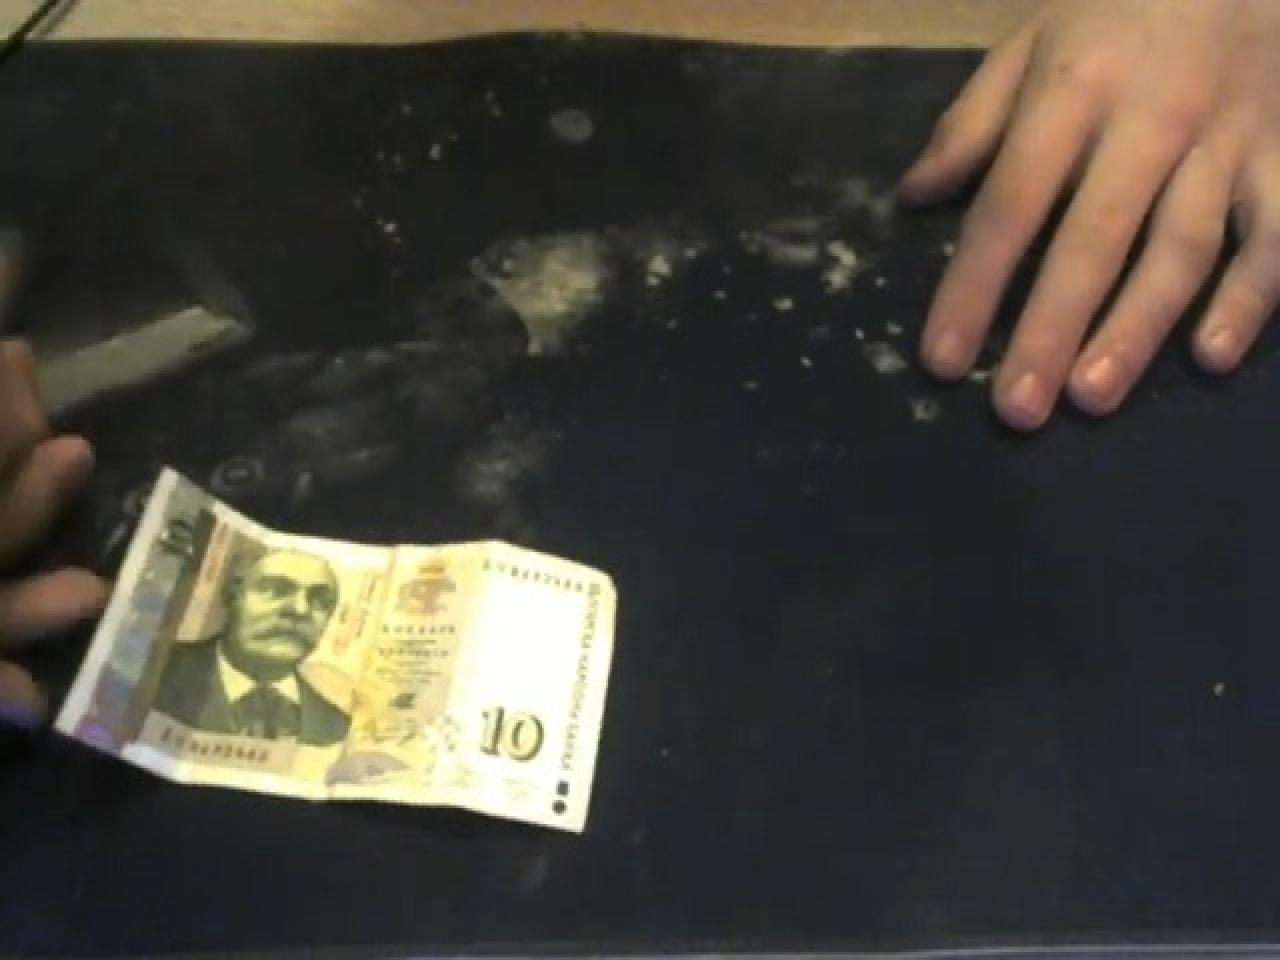10leva: (149, 538, 353, 743), (455, 695, 554, 784)
